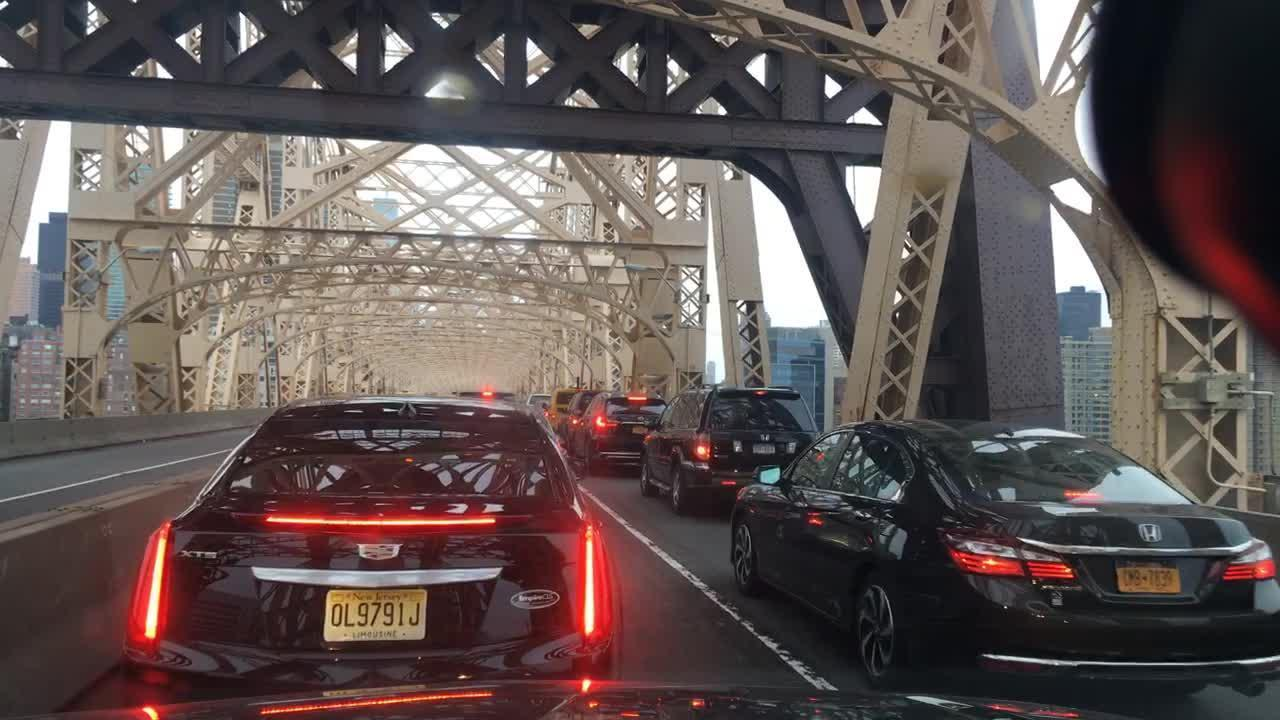Honda: (1131, 516, 1167, 547), (757, 428, 774, 446)
cadillac: (354, 536, 408, 564)
